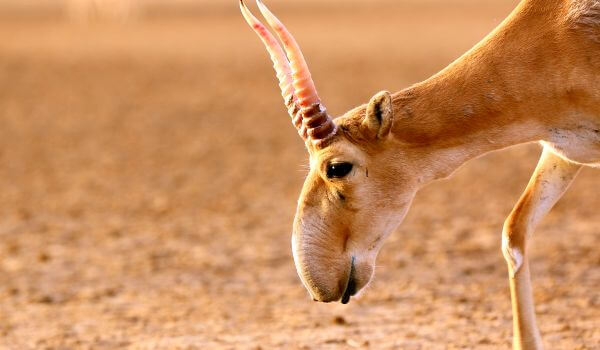saiga: (229, 1, 600, 350)
